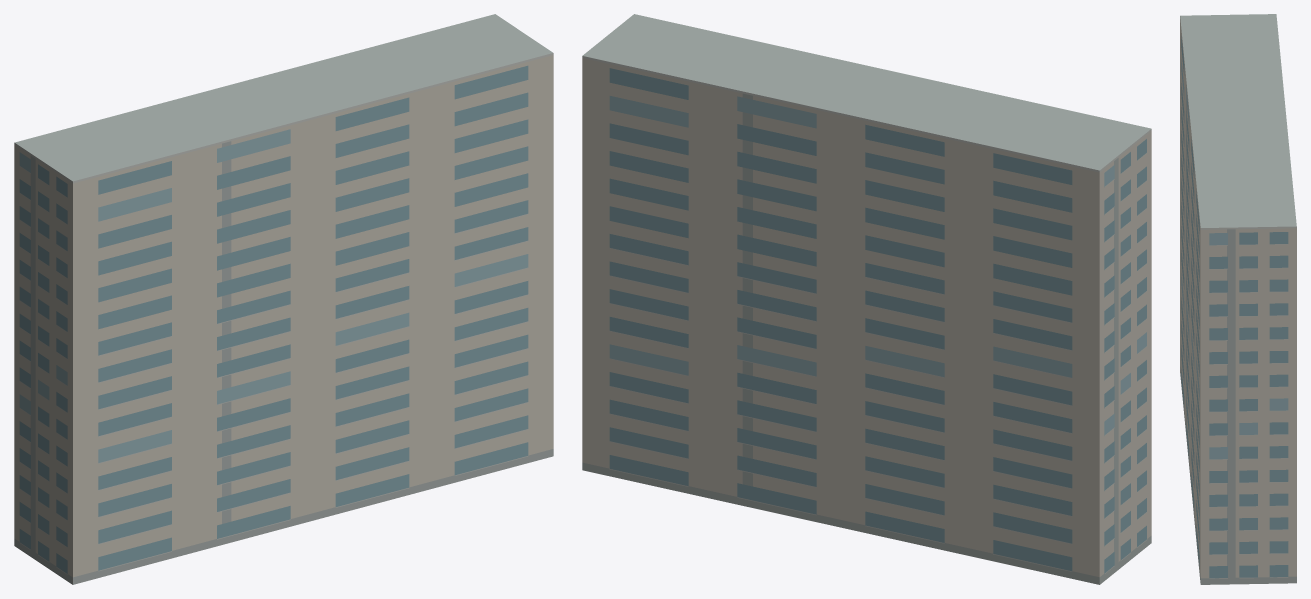
Rendered from residential-12e010f3-549e-4018-b46d-1f6bc036e096.glb.
3 renders of one model, left to right at view 1: azimuth 30°, elevation 25°; view 2: azimuth 150°, elevation 25°; view 3: azimuth 270°, elevation 25°, orthographic. The views are drawn at different scales.
Parts seen in each view (by area): view 1: residential-12e010f3-549e-4018-b46d-1f6bc036e096.tmp; view 2: residential-12e010f3-549e-4018-b46d-1f6bc036e096.tmp; view 3: residential-12e010f3-549e-4018-b46d-1f6bc036e096.tmp.
Part boxes in pixels (x1,y1,x2,y2): residential-12e010f3-549e-4018-b46d-1f6bc036e096.tmp: (14, 14, 553, 584); residential-12e010f3-549e-4018-b46d-1f6bc036e096.tmp: (582, 14, 1151, 584); residential-12e010f3-549e-4018-b46d-1f6bc036e096.tmp: (1180, 14, 1296, 584).
Size of the model in its own units: 61.78 by 48 by 14.24.
